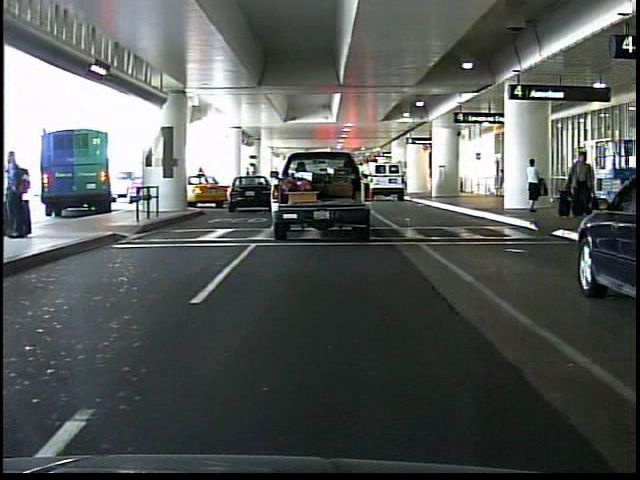person: (4, 143, 37, 240), (566, 146, 596, 221), (574, 154, 598, 214), (521, 155, 544, 215)
